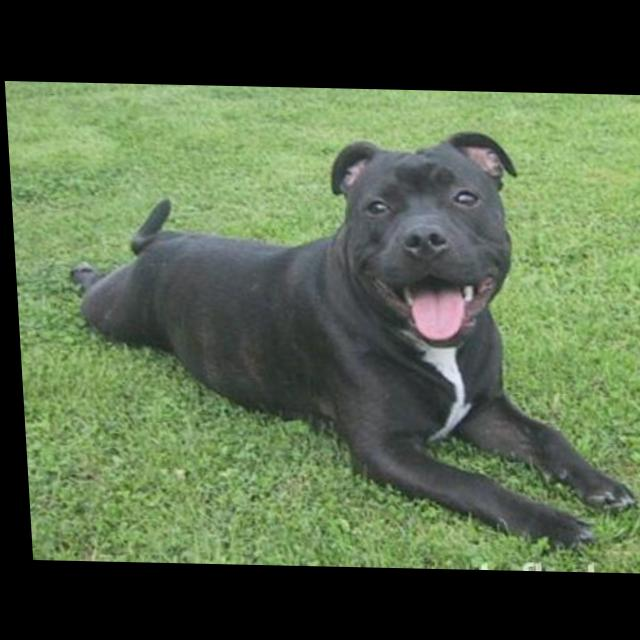staffford: (59, 120, 634, 550)
